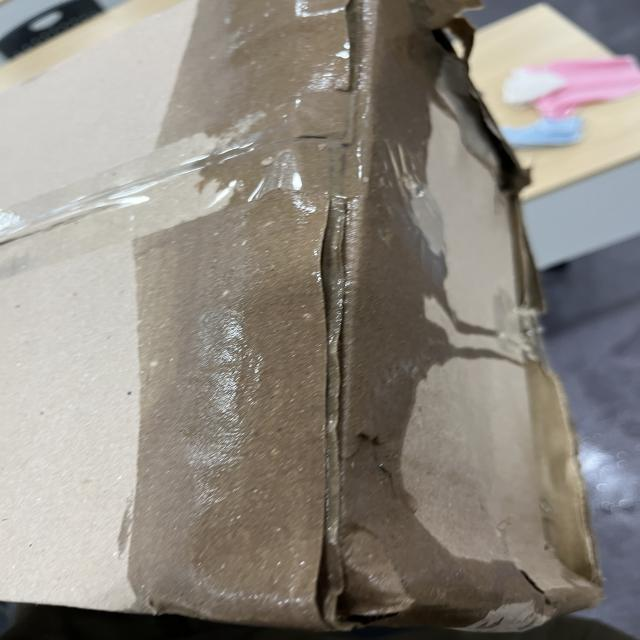hole: (426, 12, 536, 199)
wet: (128, 1, 450, 627)
